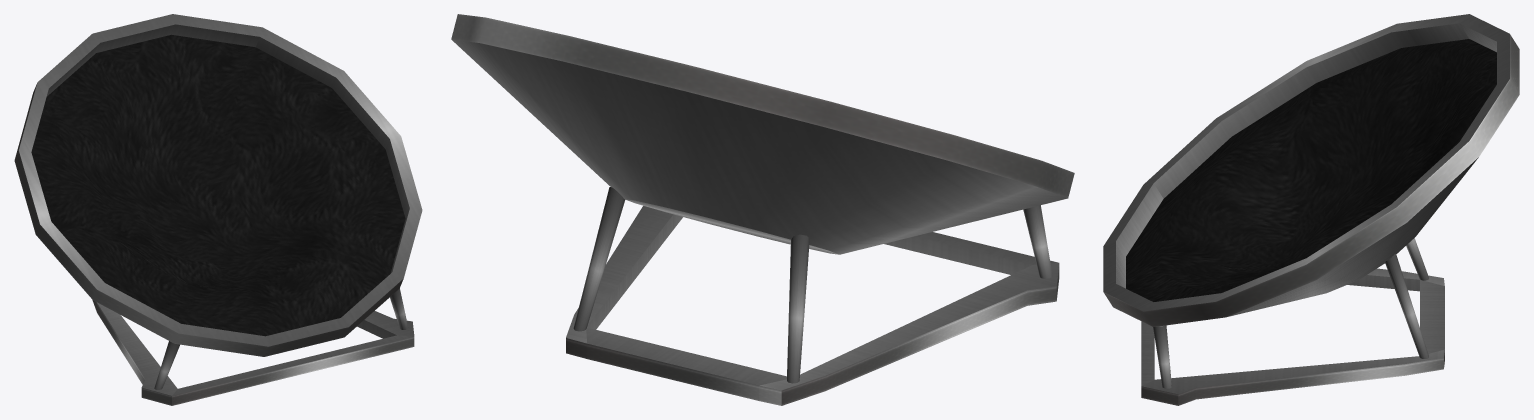
Rendered from Saucer_Chair_07.FBX.
3 renders of one model, left to right at view 1: azimuth 30°, elevation 25°; view 2: azimuth 150°, elevation 25°; view 3: azimuth 270°, elevation 25°, orthographic. The views are drawn at different scales.
Visible parts, largest first — view 1: Saucer Chair; view 2: Saucer Chair; view 3: Saucer Chair.
Part boxes in pixels (box(x1,y1,x2,y2)): Saucer Chair: box(14, 14, 422, 405); Saucer Chair: box(451, 14, 1074, 405); Saucer Chair: box(1103, 14, 1519, 405).
Bounding box in the file's own units: 200 × 125 × 173.
